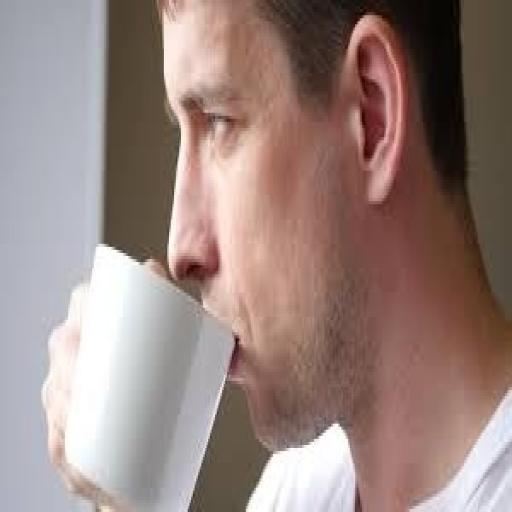drinking: (62, 241, 236, 509)
